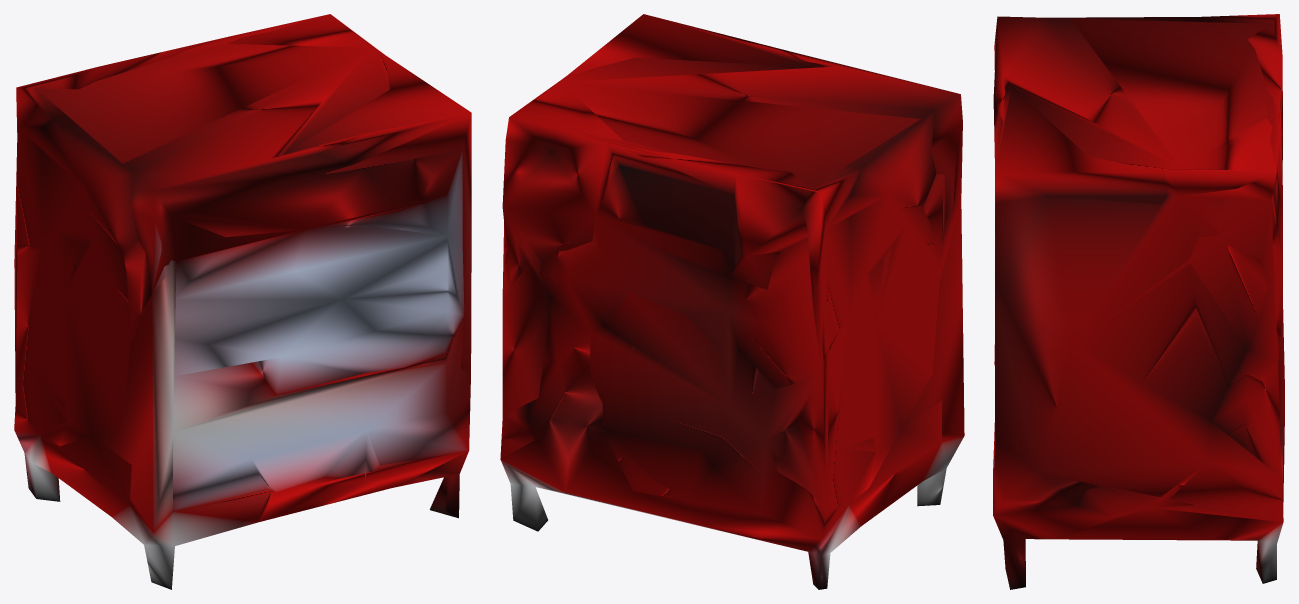
The model's file is gen3d-tool-chest-lod1.glb.
3 renders of one model, left to right at view 1: azimuth 30°, elevation 25°; view 2: azimuth 150°, elevation 25°; view 3: azimuth 270°, elevation 25°, orthographic. The views are drawn at different scales.
Parts seen in each view (by area): view 1: part_0; view 2: part_0; view 3: part_0.
Boxes of the visible parts, <box> form: part_0: <box>14,14,471,589</box>; part_0: <box>500,14,964,589</box>; part_0: <box>993,14,1284,589</box>.
Bounding box in the file's own units: 0.8153 × 0.9959 × 0.6245.
